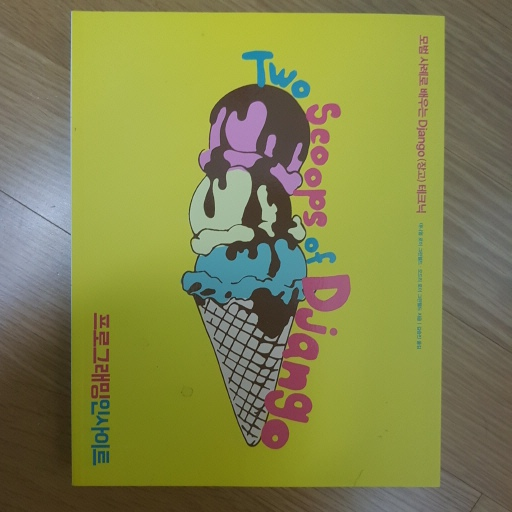Paper_0: (48, 1, 456, 504)
